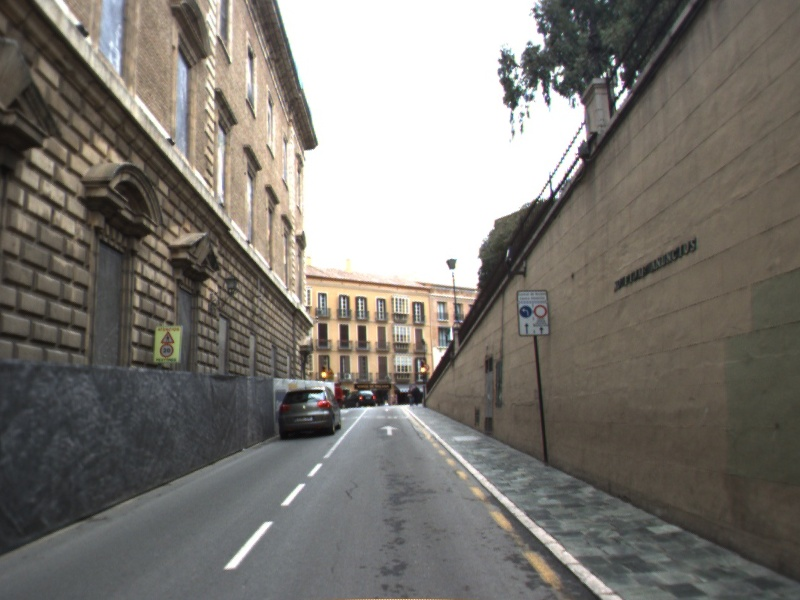STRAIGHT: (378, 423, 401, 437)
